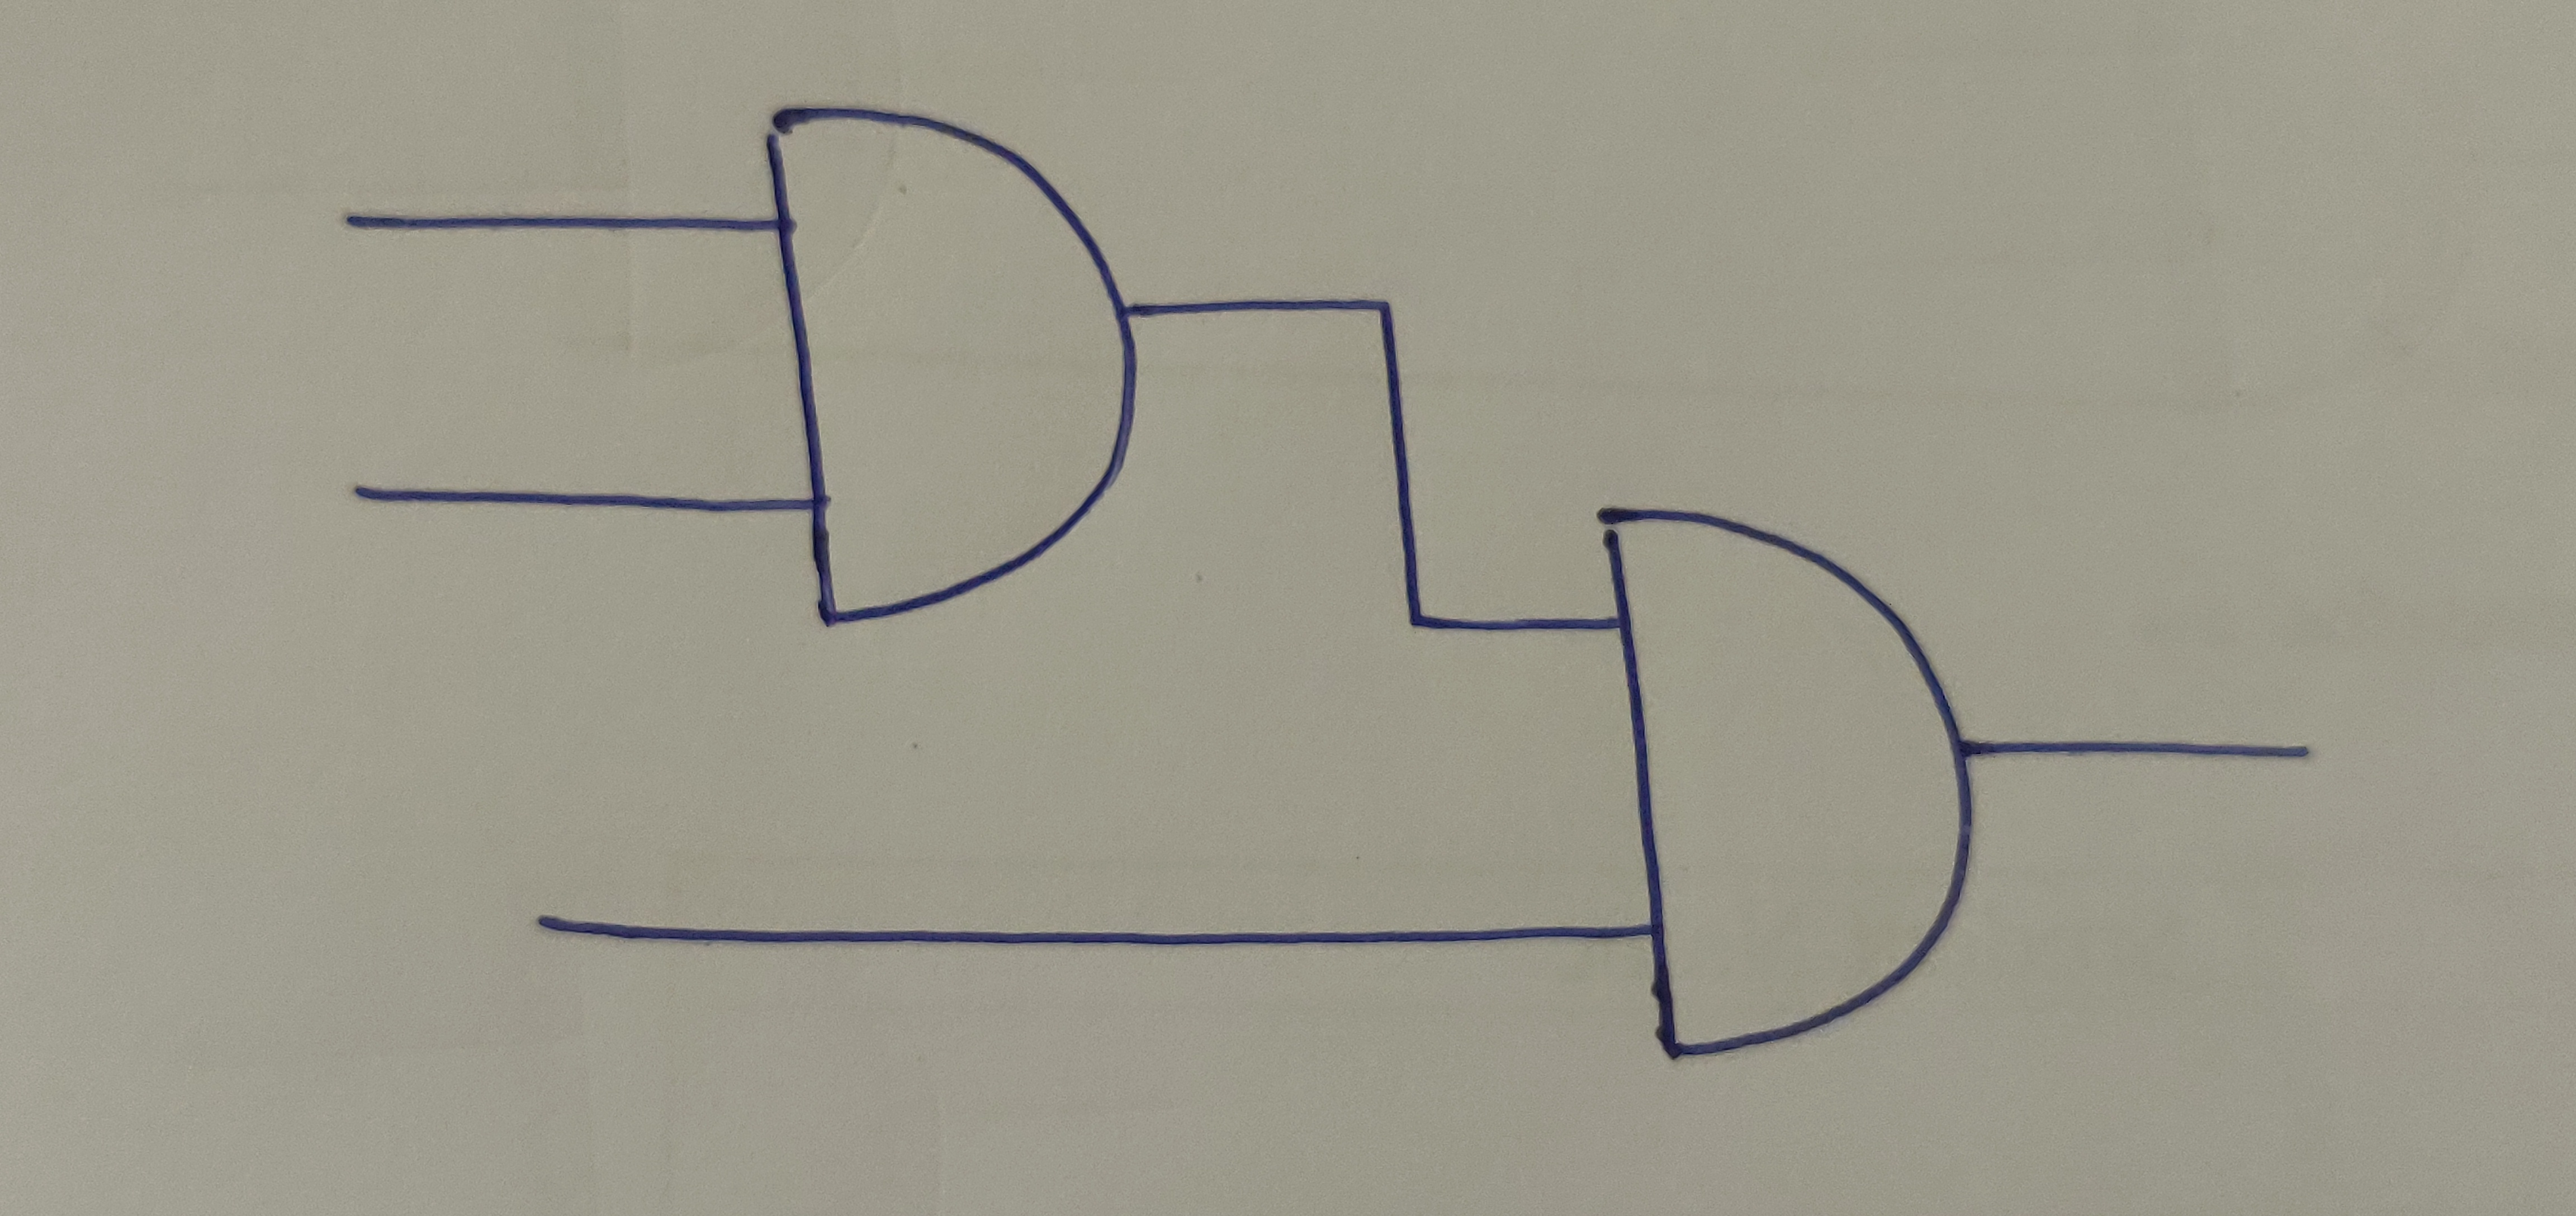and: (1587, 498, 1980, 1060), (754, 100, 1143, 628)
